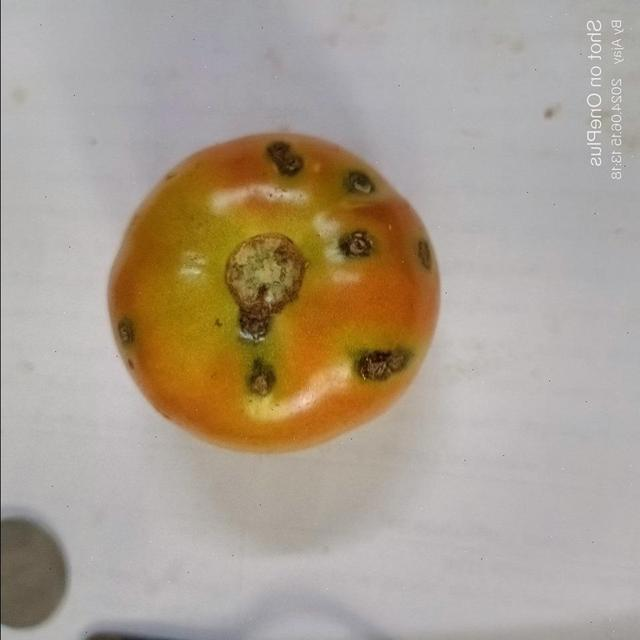Bacterial Spot Fruit: (19, 19, 253, 254)
